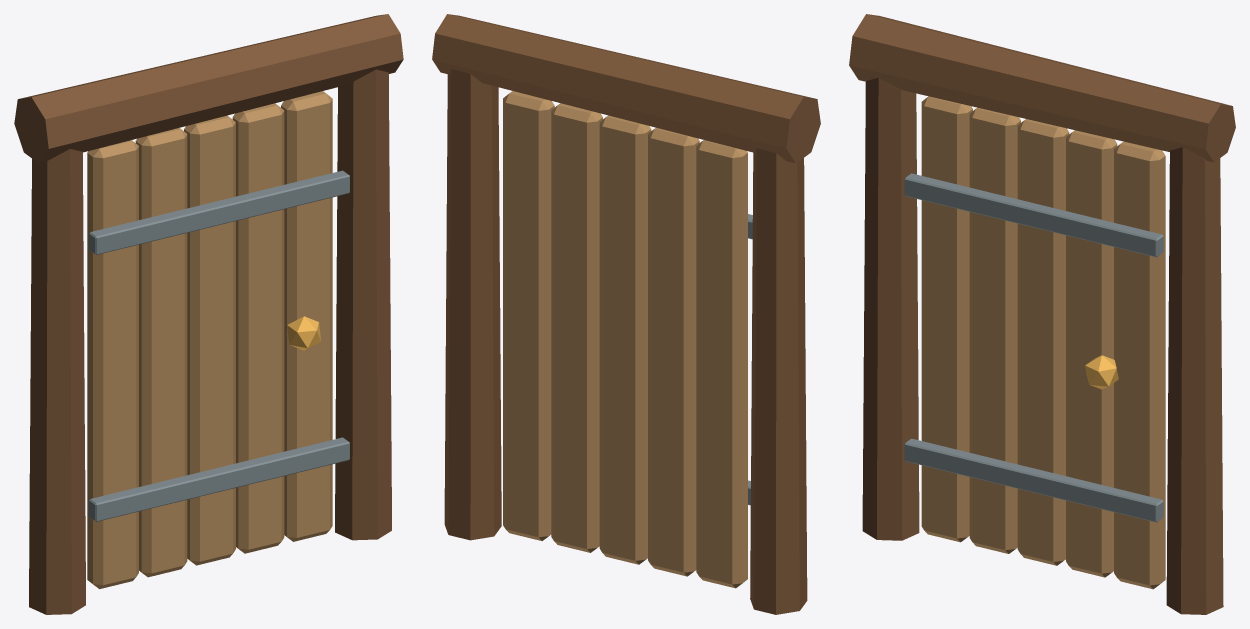
File: CC_DoorFrame.fbx
The picture shows the model from 3 angles, left to right: view 1: azimuth 30°, elevation 25°; view 2: azimuth 150°, elevation 25°; view 3: azimuth 330°, elevation 25°; orthographic projection.
Parts seen in each view (by area): view 1: Post.012, Lintel.001, Post.013, Door plank, Door plank.003, Door plank.002, Door plank.001, Door plank.004, Strap, Strap.001, Knob; view 2: Post.013, Post.012, Lintel.001, Door plank, Door plank.004, Door plank.003, Door plank.002, Door plank.001; view 3: Post.013, Lintel.001, Post.012, Door plank.004, Door plank.002, Door plank.001, Door plank, Door plank.003, Strap.001, Strap, Knob.
Part boxes in pixels (x1,y1,x2,y2): Post.012: (29, 149, 85, 614); Lintel.001: (14, 14, 403, 163); Post.013: (335, 69, 391, 540); Door plank: (87, 140, 138, 589); Door plank.003: (232, 103, 284, 553); Door plank.002: (184, 115, 235, 565); Door plank.001: (135, 128, 187, 577); Door plank.004: (281, 91, 332, 541); Strap: (89, 437, 349, 521); Strap.001: (89, 170, 349, 254); Knob: (287, 316, 320, 350); Post.013: (444, 69, 501, 540); Post.012: (750, 148, 807, 614); Lintel.001: (432, 14, 820, 163); Door plank: (696, 140, 747, 588); Door plank.004: (503, 91, 554, 540); Door plank.003: (551, 103, 602, 552); Door plank.002: (599, 115, 651, 564); Door plank.001: (648, 127, 699, 576); Post.013: (1166, 147, 1223, 614); Lintel.001: (849, 14, 1235, 162); Post.012: (862, 77, 919, 540); Door plank.004: (1114, 141, 1165, 589); Door plank.002: (1017, 119, 1069, 565); Door plank.001: (969, 107, 1020, 553); Door plank: (921, 96, 972, 542); Door plank.003: (1066, 130, 1117, 577); Strap.001: (904, 173, 1163, 257); Strap: (904, 438, 1163, 522); Knob: (1085, 355, 1118, 389).
Size of the model in its own units: 1.4 by 1.92 by 0.2923.
